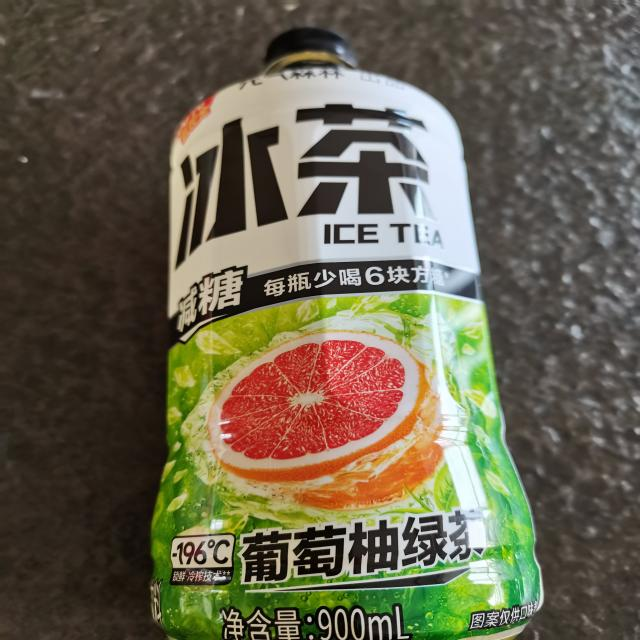bottle: (145, 22, 545, 640)
